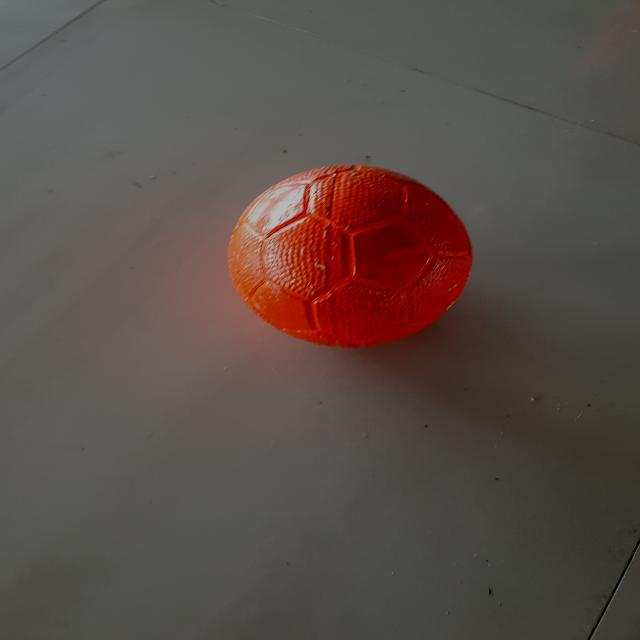bola: (217, 150, 482, 358)
